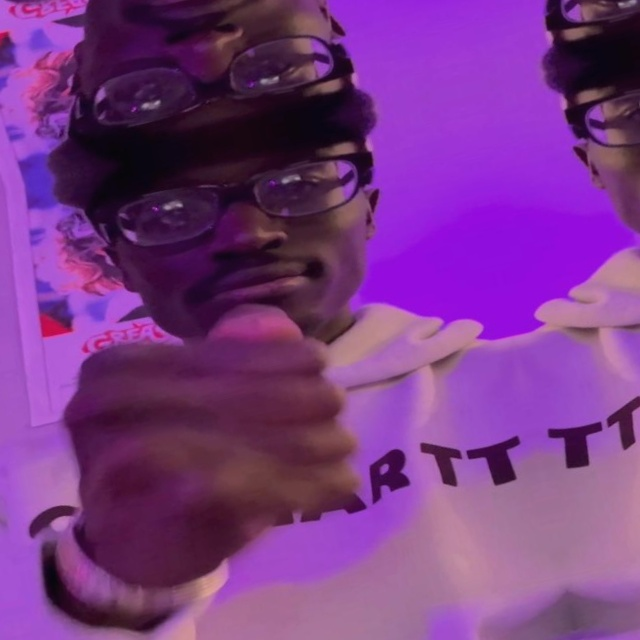Rock: (0, 0, 259, 31)
